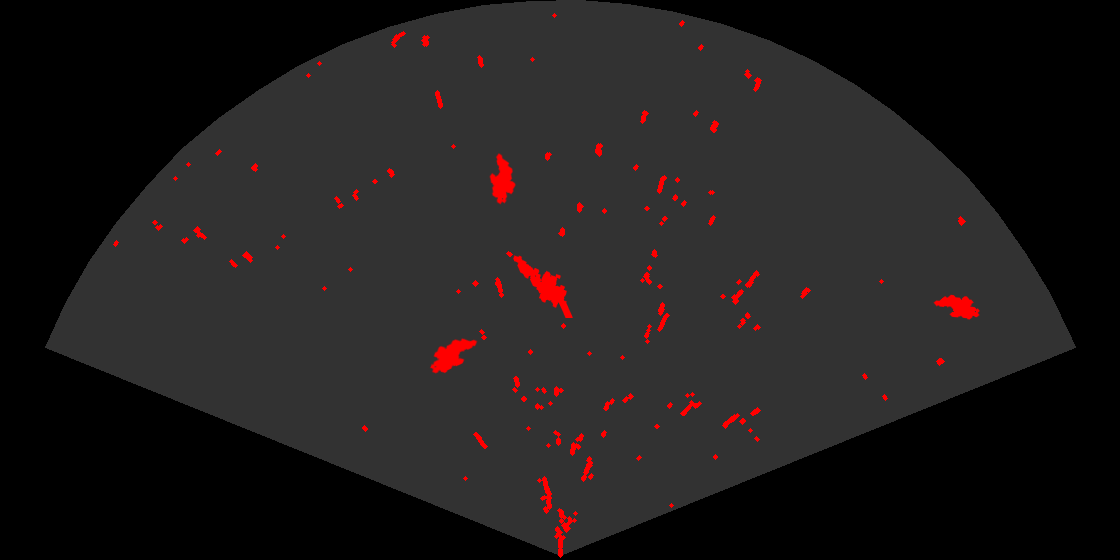AUV: (428, 337, 479, 375), (488, 152, 517, 206), (932, 293, 981, 321)
frogman: (512, 254, 574, 318)
